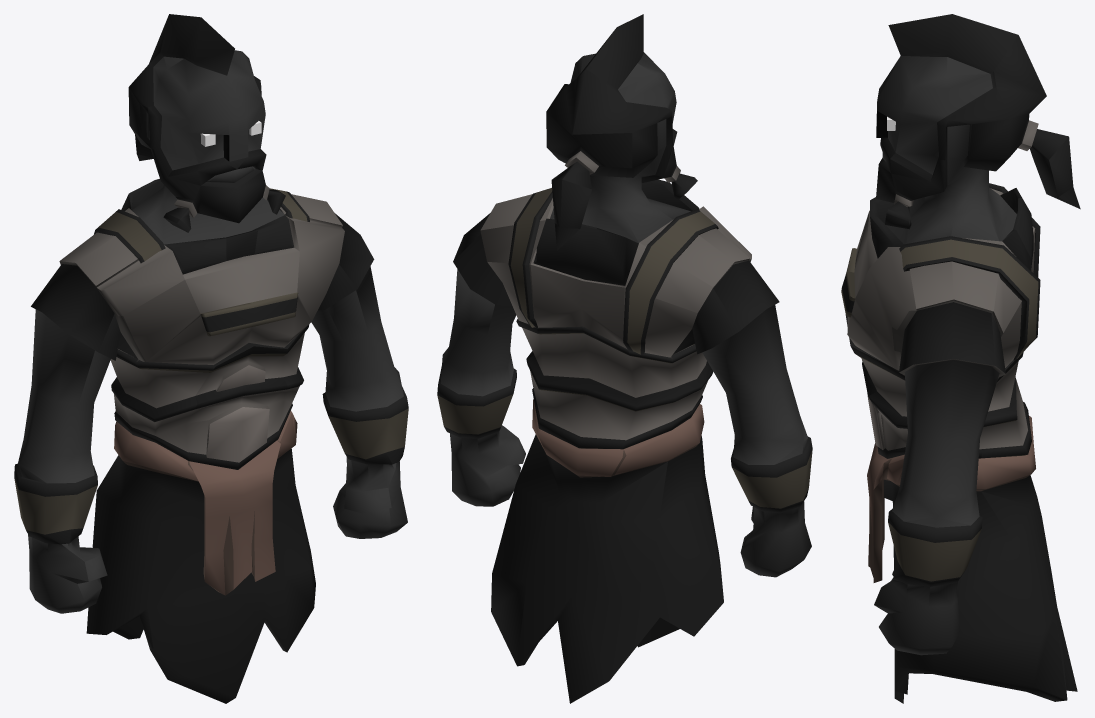
Rendered from ghost_beasthunter.fbx.
3 renders of one model, left to right at view 1: azimuth 30°, elevation 25°; view 2: azimuth 150°, elevation 25°; view 3: azimuth 270°, elevation 25°, orthographic. The views are drawn at different scales.
Parts seen in each view (by area): view 1: ghost_beasthunter; view 2: ghost_beasthunter; view 3: ghost_beasthunter.
Boxes of the visible parts, x1,y1,x2,y2 form: ghost_beasthunter: (14,14,408,703); ghost_beasthunter: (437,14,812,703); ghost_beasthunter: (841,14,1080,703).
Size of the model in its own units: 526 by 877 by 276.
